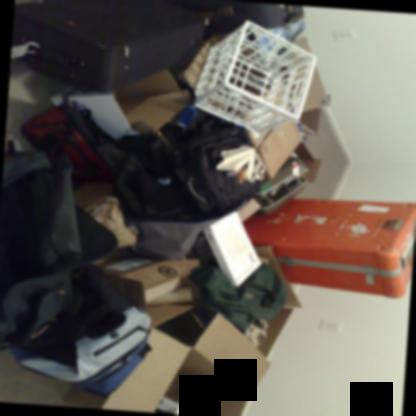backpack: (0, 262, 152, 395), (183, 124, 266, 216), (187, 262, 286, 333)
handbag: (20, 92, 116, 183)
suitcase: (0, 139, 117, 349), (15, 0, 225, 94), (245, 199, 416, 298), (176, 0, 304, 35), (252, 157, 308, 213), (154, 397, 203, 416)
